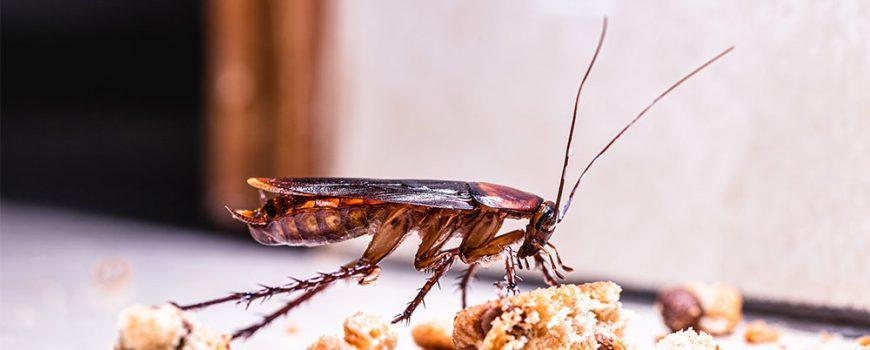cockroach: (232, 173, 581, 286)
